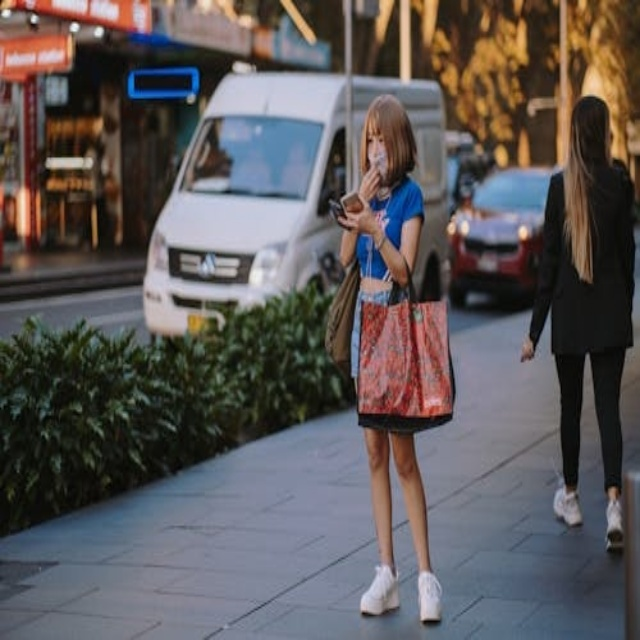Mascara: (368, 150, 388, 180)
